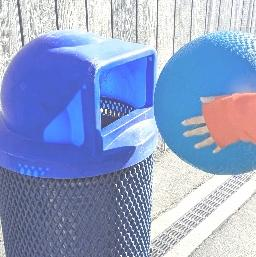algae: (150, 29, 256, 171)
